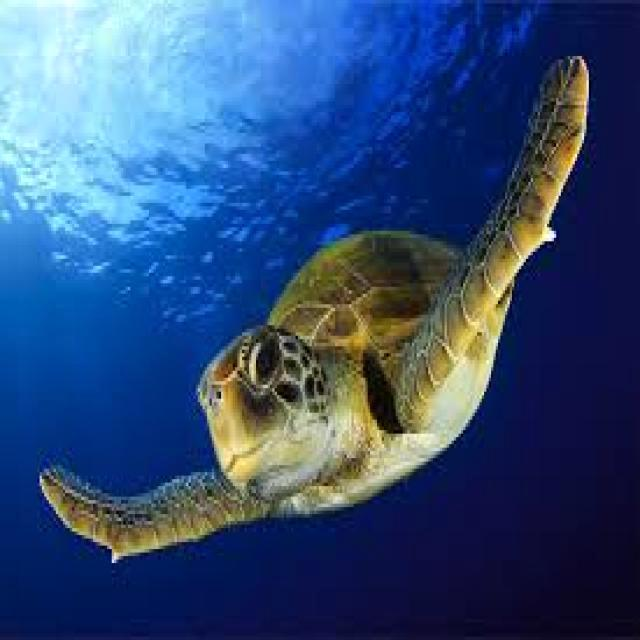Sea turtle: (37, 55, 595, 562)
